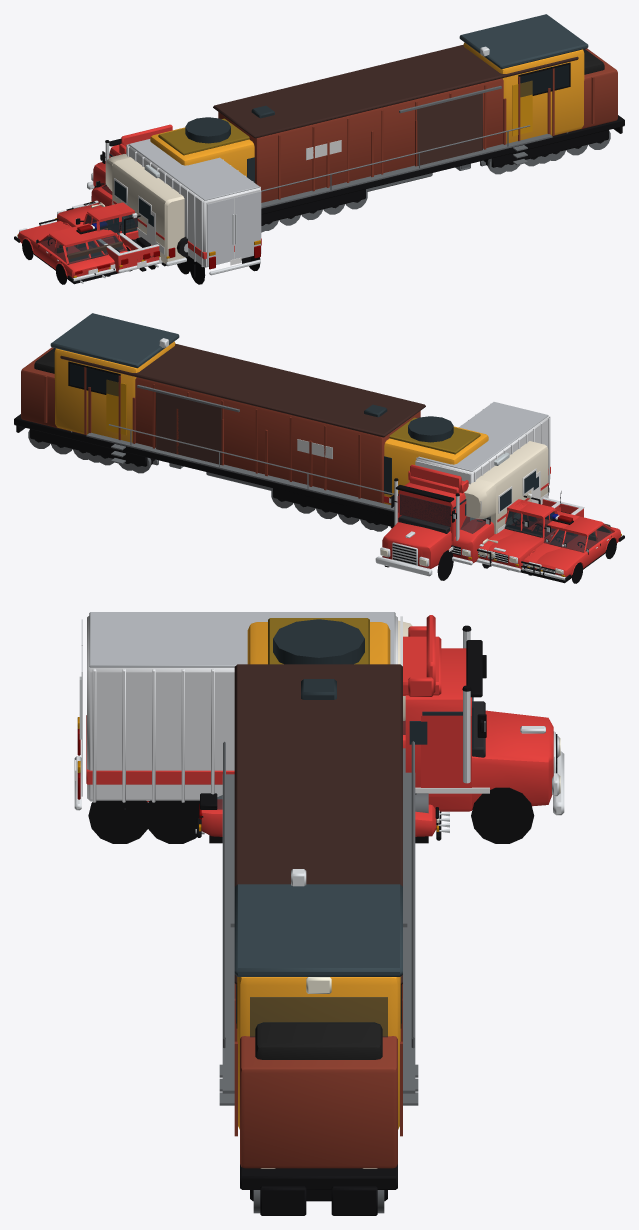
The model's file is vehicles.glb.
3 views of the same model, one above another, from view 1: azimuth 30°, elevation 25°; view 2: azimuth 150°, elevation 25°; view 3: azimuth 270°, elevation 25° (orthographic). The views are drawn at different scales.
Parts seen in each view (by area): view 1: train_box, train_loco, car_semi, train_hopper, car_camper, car_sedan, car_pickup, car_cop, train_tank, car_bandit; view 2: train_box, train_loco, car_semi, train_hopper, car_camper, car_sedan, car_pickup, train_tank, car_cop, car_bandit; view 3: car_semi, train_loco, train_box, train_hopper, car_shark.
Part boxes in pixels (box(x1,y1,x2,y2)): train_box: box(213, 44, 579, 230); train_loco: box(150, 14, 622, 232); car_semi: box(87, 124, 261, 284); train_hopper: box(295, 48, 624, 213); car_camper: box(90, 154, 188, 269); car_sedan: box(14, 221, 114, 284); car_pickup: box(54, 203, 162, 276); car_cop: box(39, 218, 127, 278); train_tank: box(273, 124, 601, 225); car_bandit: box(80, 200, 166, 271); train_box: box(58, 343, 425, 529); train_loco: box(16, 313, 488, 531); car_semi: box(375, 402, 550, 580); train_hopper: box(14, 347, 343, 512); car_camper: box(451, 441, 548, 568); car_sedan: box(524, 516, 624, 583); car_pickup: box(477, 497, 584, 575); train_tank: box(37, 423, 365, 524); car_cop: box(520, 491, 579, 577); car_bandit: box(476, 493, 561, 570); car_semi: box(74, 612, 564, 843); train_loco: box(219, 618, 418, 1215); train_box: box(230, 664, 407, 1041); train_hopper: box(234, 983, 402, 1213); car_shark: box(195, 793, 449, 843).
Bounding box in the file's own units: 25.61 × 5.65 × 9.6.
